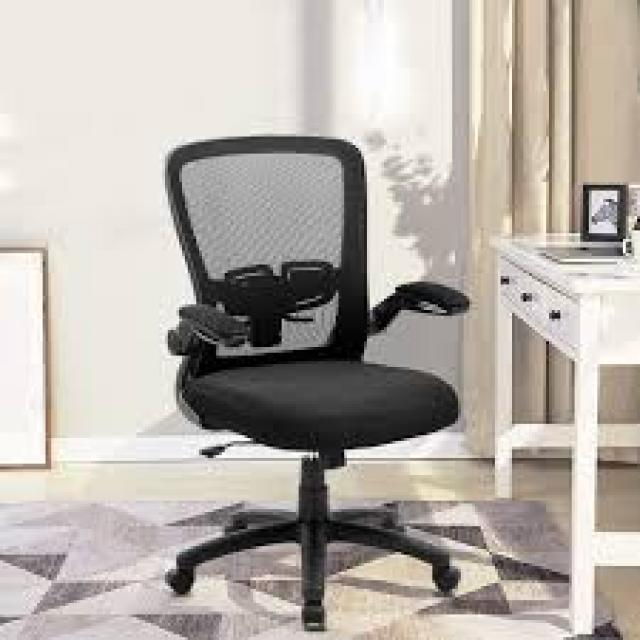chair: (151, 136, 459, 636)
